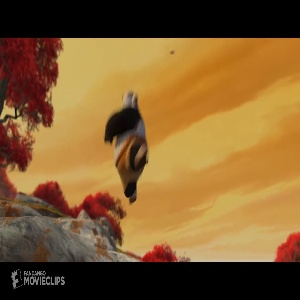po: (102, 87, 150, 207)
